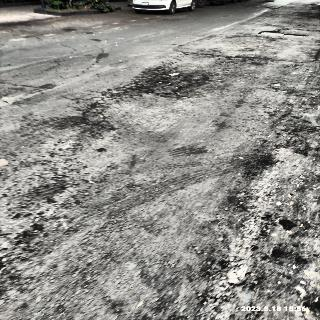alligator-crack: (126, 66, 211, 99)
